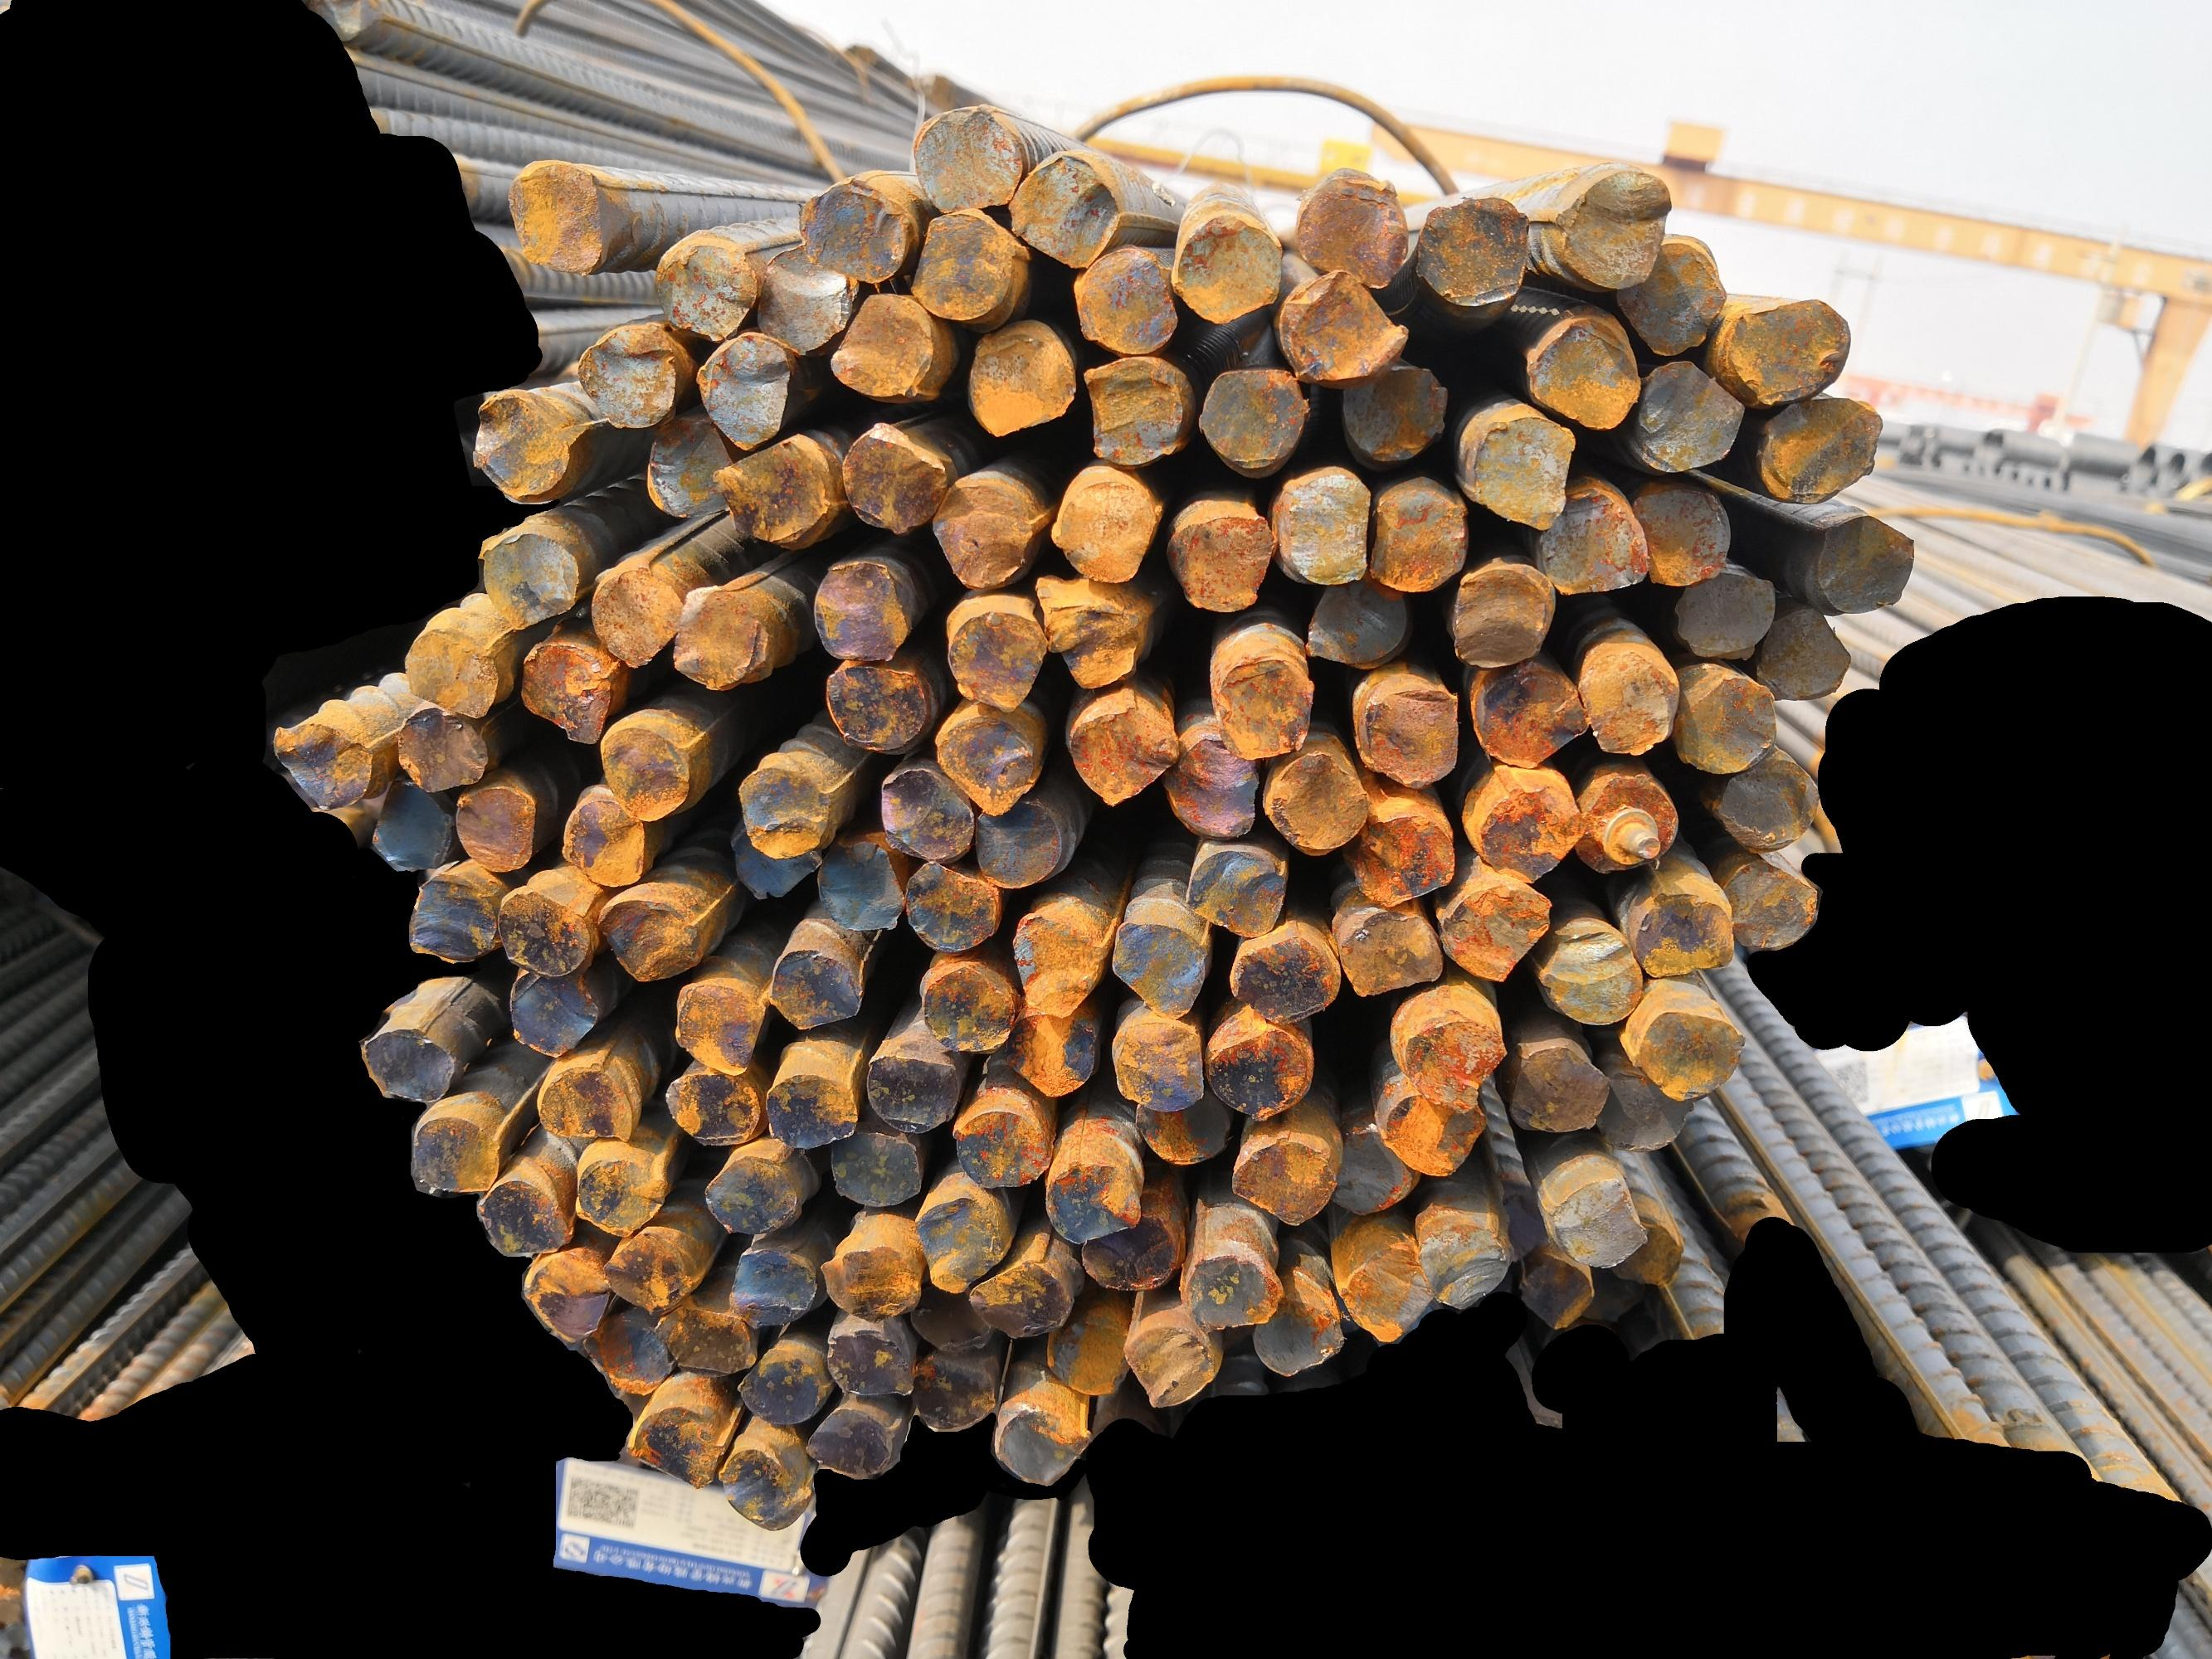bar: (1750, 390, 1890, 511), (1405, 190, 1532, 319), (997, 136, 1121, 268), (1267, 272, 1407, 385), (1044, 453, 1159, 587), (1553, 166, 1672, 295), (1611, 235, 1727, 364), (702, 427, 830, 544), (1523, 310, 1644, 432), (920, 469, 1041, 589), (1623, 356, 1747, 472), (1168, 206, 1285, 329), (495, 152, 610, 277), (1325, 352, 1452, 464), (1459, 410, 1578, 528), (899, 94, 1023, 207), (1529, 486, 1654, 598), (1442, 552, 1558, 671), (903, 202, 1016, 324), (967, 312, 1075, 439), (1722, 296, 1851, 403), (1062, 240, 1178, 357), (795, 164, 908, 284), (1191, 359, 1311, 472), (464, 387, 577, 505), (1293, 171, 1407, 289), (830, 420, 950, 532), (1154, 720, 1262, 843), (1062, 692, 1178, 805), (570, 312, 678, 434), (577, 549, 685, 671), (1035, 580, 1150, 694), (1206, 645, 1320, 760), (828, 286, 938, 404), (1363, 472, 1466, 598), (1346, 795, 1459, 908), (926, 702, 1037, 817), (746, 235, 856, 352), (1168, 500, 1276, 619), (1431, 878, 1553, 983), (1267, 465, 1370, 589), (469, 516, 580, 629), (647, 227, 757, 342), (1079, 347, 1187, 464), (1578, 641, 1682, 760), (692, 329, 795, 450), (1666, 559, 1778, 669), (1468, 667, 1590, 767), (934, 601, 1044, 711), (1572, 765, 1677, 880), (809, 554, 915, 666), (1199, 1019, 1313, 1124), (1806, 511, 1919, 615), (1006, 904, 1107, 1021), (1532, 1175, 1649, 1276), (1225, 1127, 1344, 1227), (1534, 922, 1642, 1030), (668, 582, 774, 692), (1178, 836, 1286, 943), (1354, 681, 1461, 789), (1623, 484, 1729, 592), (814, 650, 927, 751), (1473, 775, 1583, 878), (1630, 884, 1741, 985), (978, 1387, 1091, 1486), (1227, 925, 1342, 1023), (500, 951, 605, 1058), (511, 640, 619, 742), (1391, 1011, 1511, 1103), (1679, 667, 1780, 777), (638, 404, 732, 521), (872, 760, 976, 864), (1633, 1006, 1745, 1103), (1712, 756, 1823, 854), (908, 1183, 1004, 1297), (955, 1249, 1072, 1342), (397, 620, 506, 720), (896, 857, 1002, 957), (594, 718, 694, 824), (1747, 599, 1853, 699), (1110, 911, 1208, 1019), (621, 1394, 730, 1490), (268, 721, 382, 814), (1318, 1122, 1422, 1222), (964, 795, 1070, 892), (757, 932, 863, 1030), (528, 1058, 640, 1150), (1116, 1314, 1220, 1412), (600, 887, 708, 981), (666, 978, 767, 1077), (1340, 899, 1442, 999), (811, 1234, 926, 1321), (1265, 758, 1370, 854), (462, 1171, 575, 1258), (1511, 1042, 1611, 1141), (558, 789, 655, 890), (356, 775, 457, 873), (518, 1237, 615, 1338), (1333, 1244, 1435, 1342), (1293, 580, 1408, 666), (943, 1107, 1055, 1194), (394, 866, 493, 964), (563, 1145, 668, 1237), (1375, 1094, 1487, 1180), (1110, 1018, 1210, 1114), (1415, 1220, 1517, 1314), (444, 774, 537, 877), (699, 1147, 802, 1239), (356, 1018, 462, 1107), (732, 758, 830, 854), (713, 1438, 812, 1532), (818, 829, 905, 936), (1236, 1290, 1342, 1377), (819, 1124, 927, 1209), (390, 702, 486, 798), (499, 882, 593, 979), (915, 964, 1013, 1058), (819, 1314, 919, 1406), (729, 1347, 831, 1436), (1041, 1159, 1145, 1246), (652, 1066, 760, 1150), (406, 1107, 507, 1195), (757, 1066, 858, 1155), (1044, 1300, 1135, 1398), (1074, 1213, 1184, 1293), (718, 809, 814, 899), (589, 1227, 697, 1307), (1177, 1251, 1285, 1331), (1595, 1068, 1694, 1155), (1126, 1082, 1231, 1164), (1006, 1012, 1100, 1103), (648, 1304, 757, 1382), (802, 1399, 903, 1483), (859, 1047, 960, 1131), (1720, 870, 1822, 953), (727, 1244, 818, 1331), (901, 1354, 995, 1438), (903, 1279, 999, 1359), (1515, 1241, 1595, 1337), (586, 1307, 673, 1394), (1607, 1216, 1691, 1293)
